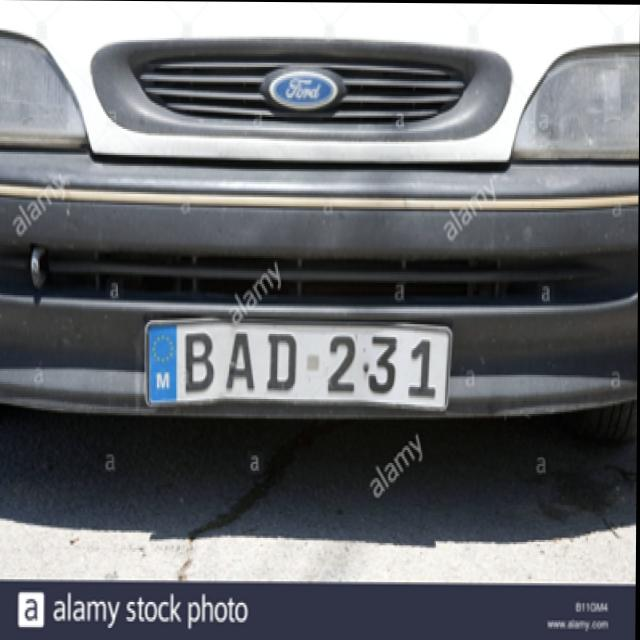licence: (140, 313, 434, 425)
